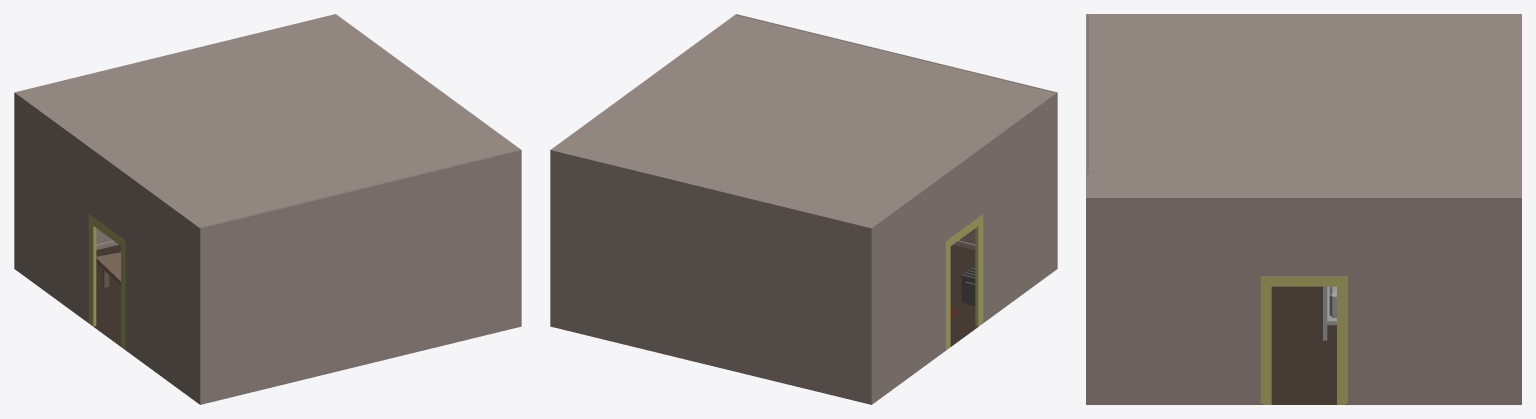
The model's file is Room06_Bedroom.fbx.
3 renders of one model, left to right at view 1: azimuth 30°, elevation 25°; view 2: azimuth 150°, elevation 25°; view 3: azimuth 270°, elevation 25°, orthographic. The views are drawn at different scales.
Visible parts, largest first — view 1: Roof, WallPosZ, WallSlicedPosX, WallPosZ6, WallSlicedPosX10, DoorFramePosX, Floor, pCube120, WallNegZ; view 2: Roof, WallNegZ, WallSlicedPosX, WallNegZ2, WallSlicedPosX10, Floor, DoorFramePosX, WallPosZ, WallSlicedNegX, heater; view 3: Roof, WallSlicedNegX, WallSlicedNegX3, Floor, DoorFrameNegX, WallSlicedPosX, WallPosZ, WallNegZ.
Part boxes in pixels (x1,y1,x2,y2): Roof: (17,15,519,227); WallPosZ: (199,150,521,364); WallSlicedPosX: (14,92,200,363); WallPosZ6: (199,286,521,404); WallSlicedPosX10: (14,229,199,403); DoorFramePosX: (88,214,125,349); Floor: (89,245,120,346); pCube120: (96,252,120,287); WallNegZ: (14,14,335,228); Roof: (552,15,1054,227); WallNegZ: (550,150,872,364); WallSlicedPosX: (870,92,1056,363); WallNegZ2: (550,286,872,404); WallSlicedPosX10: (869,229,1056,404); Floor: (946,245,982,350); DoorFramePosX: (946,214,983,349); WallPosZ: (736,14,1057,228); WallSlicedNegX: (550,14,736,286); heater: (961,266,975,305); Roof: (1088,14,1520,197); WallSlicedNegX: (1086,197,1521,357); WallSlicedNegX3: (1086,357,1521,404); Floor: (1260,286,1347,404); DoorFrameNegX: (1260,276,1347,404); WallSlicedPosX: (1087,14,1520,174); WallPosZ: (1086,14,1087,357); WallNegZ: (1520,14,1521,357).
Size of the model in its own units: 800 by 420 by 801.
